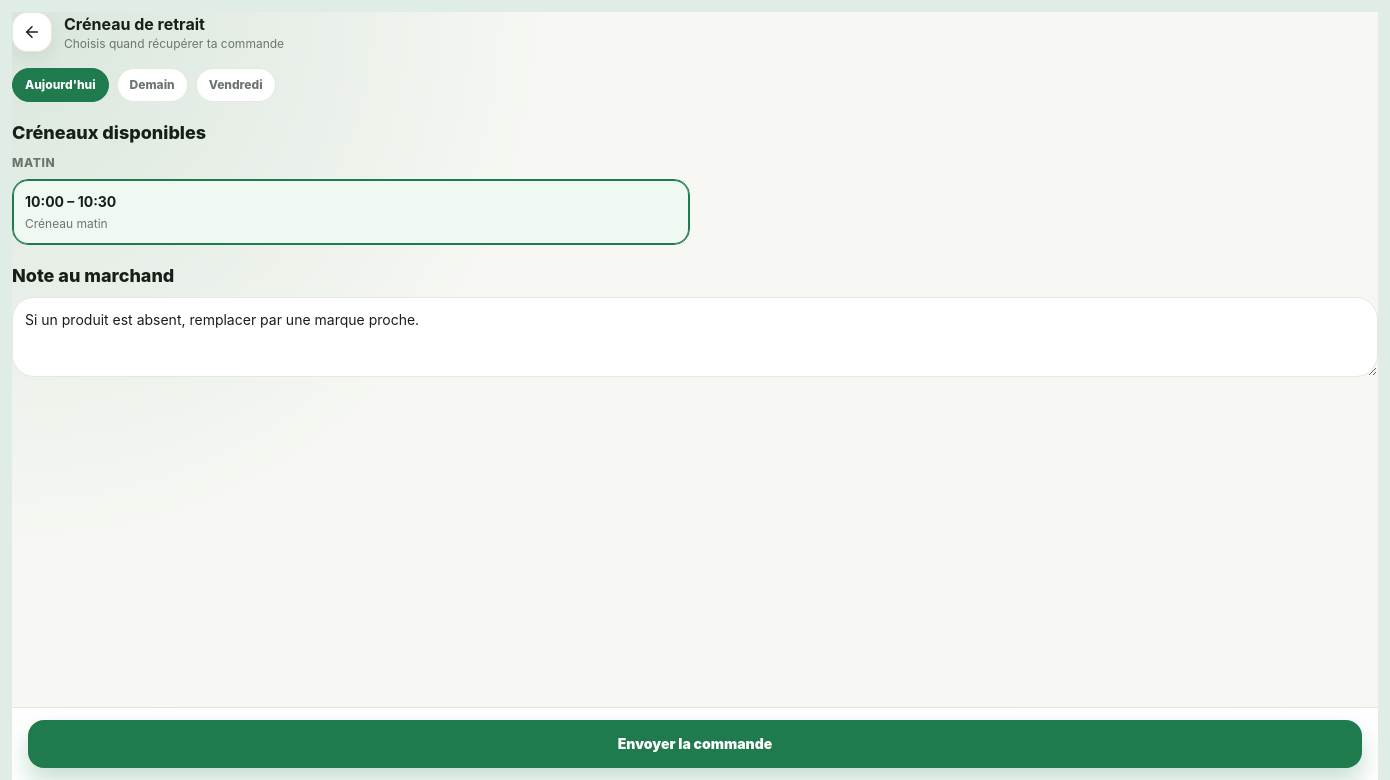
Test: SlotPage (S14-004) › affiche le blocage suspension sans perdre la Kadhia
Click the button "Envoyer la commande" at {"x": 695, "y": 744}, box [28,720,1362,768]
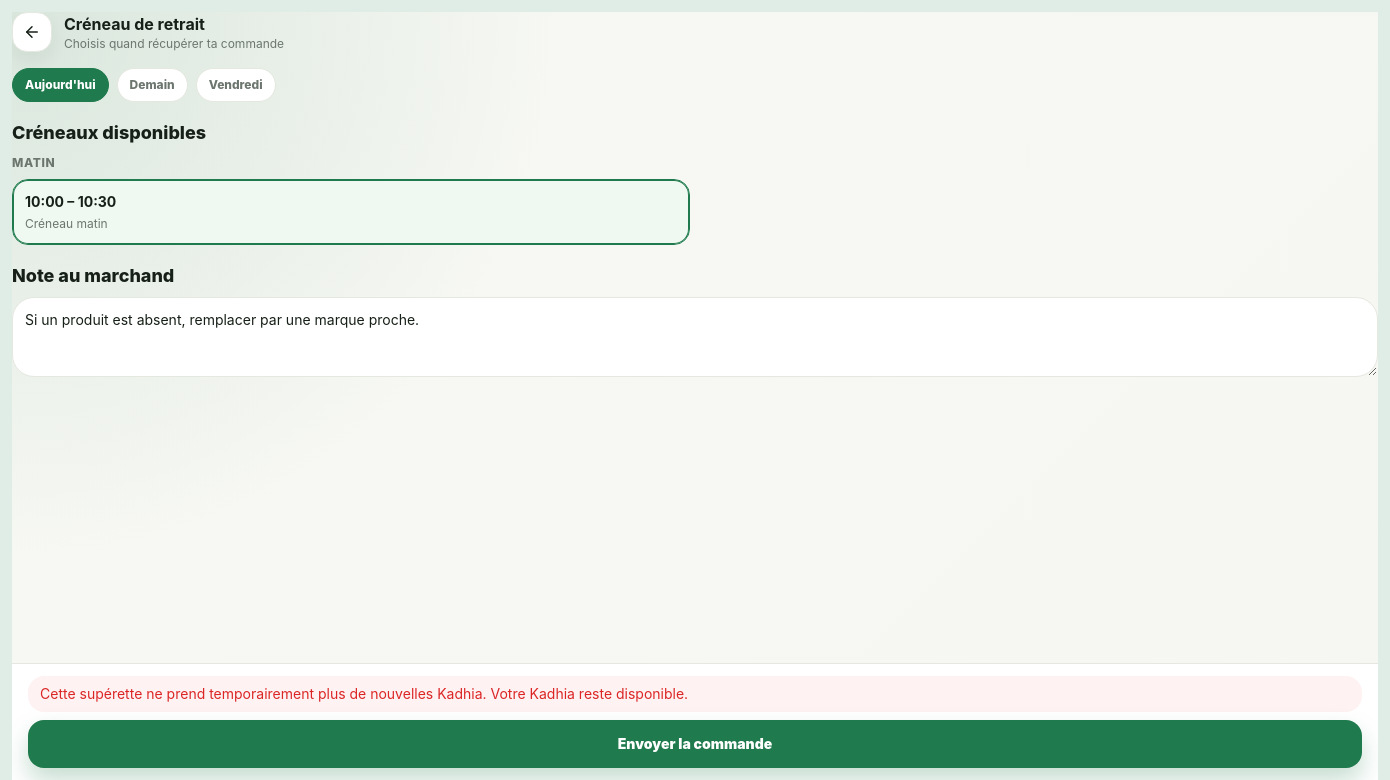
Check: the text "Cette supérette ne prend temporairement plus de nouvelles Kadhia. Votre Kadhia reste disponible." is shown, box [40,685,688,702]
